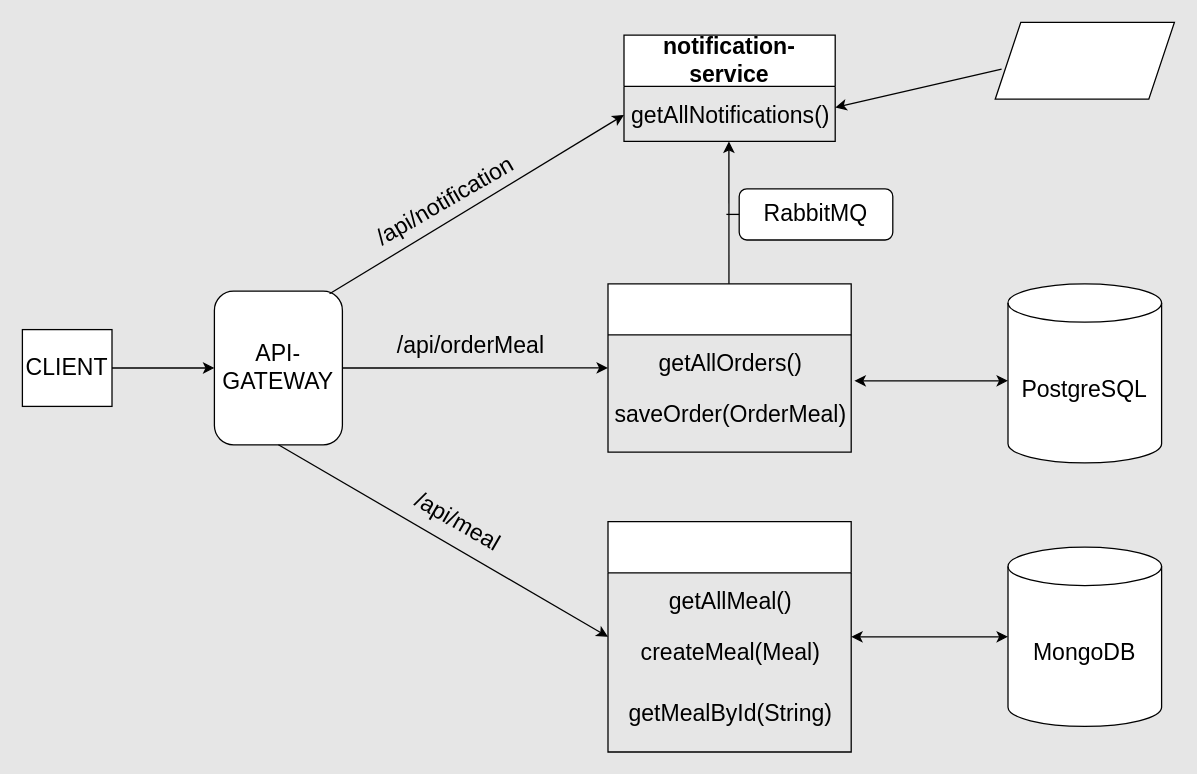
The diagram is 1197 pixels wide and 774 high, and some of its shapes have lost their labels. Here are the shapes that lost their labels. From the top down, the box of each, then its label:
(994, 21, 1174, 99): OAuth2 (Keycloak)
(607, 282, 851, 452): orderMeal-service
(607, 520, 851, 752): meal-service
